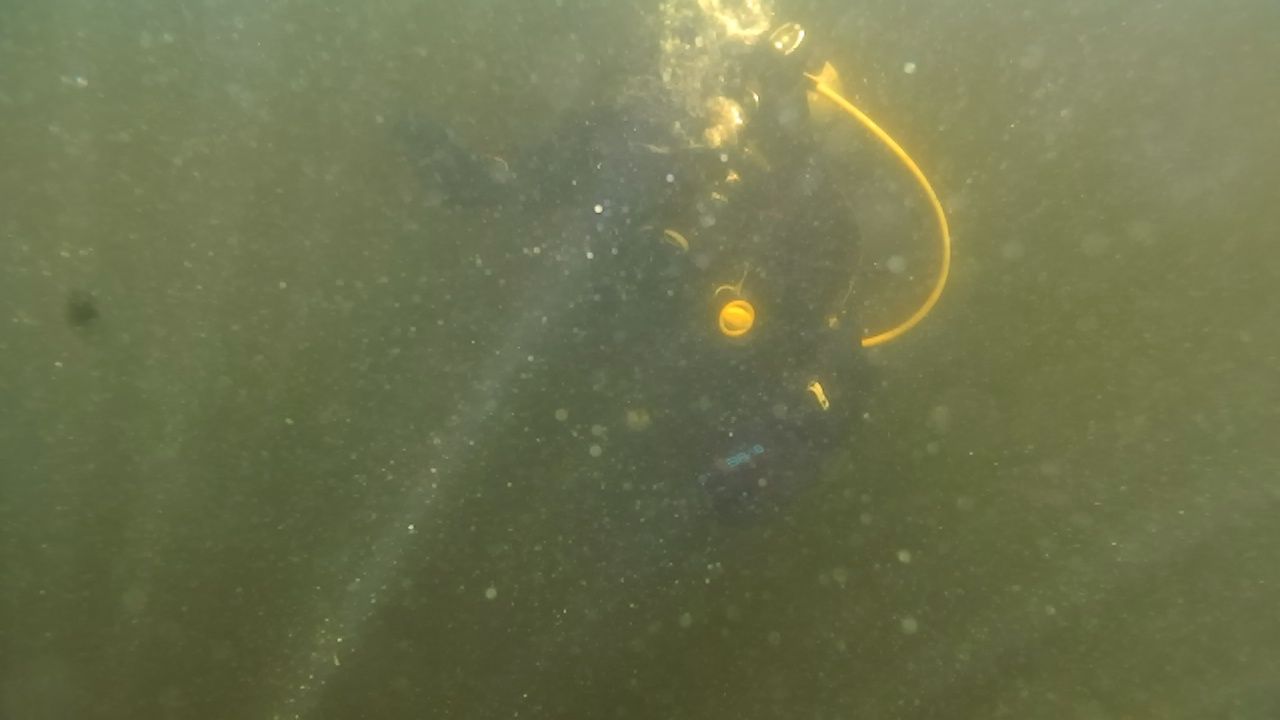Diver: (388, 2, 934, 514)
